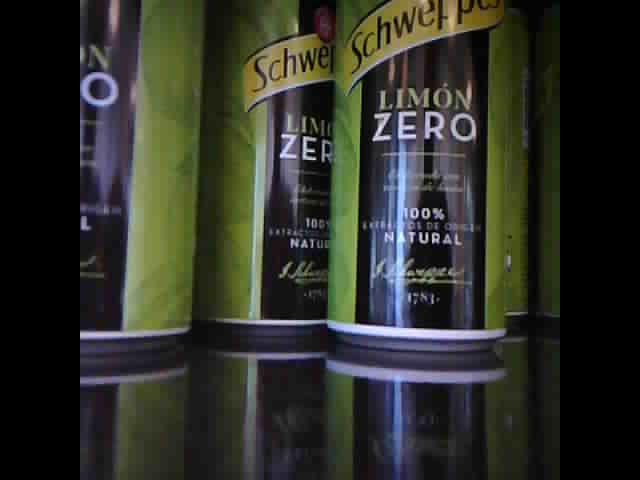schweppes: (324, 3, 509, 348), (204, 2, 336, 337), (81, 6, 206, 349)
